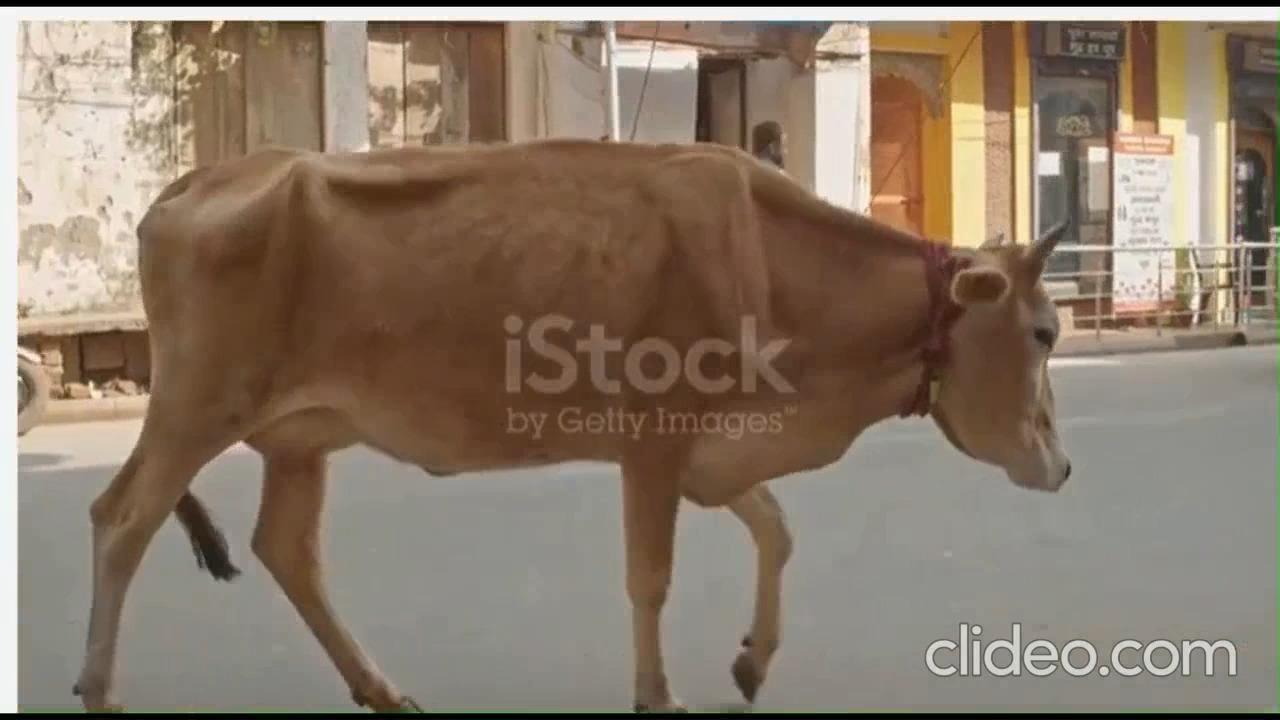Cow: (76, 151, 1079, 686)
